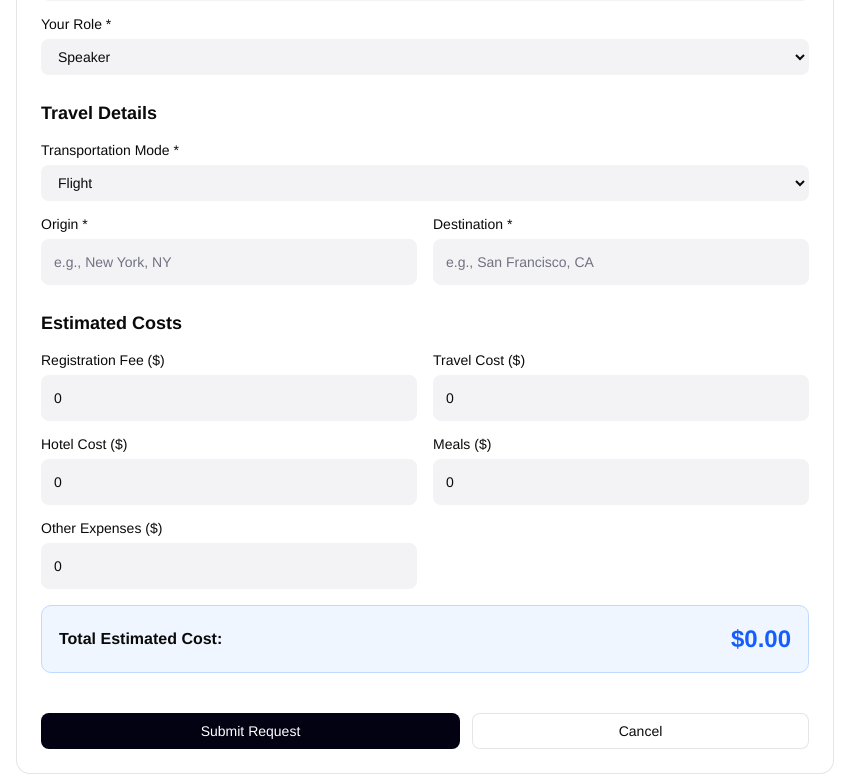
Test: SubmitRequestPage › shows validation errors when required fields are missing
This screenshot has width=851, height=774.
(page scrolled)
Click the button "Submit Request" at point(250, 731), box [41, 713, 460, 749]
(page scrolled)
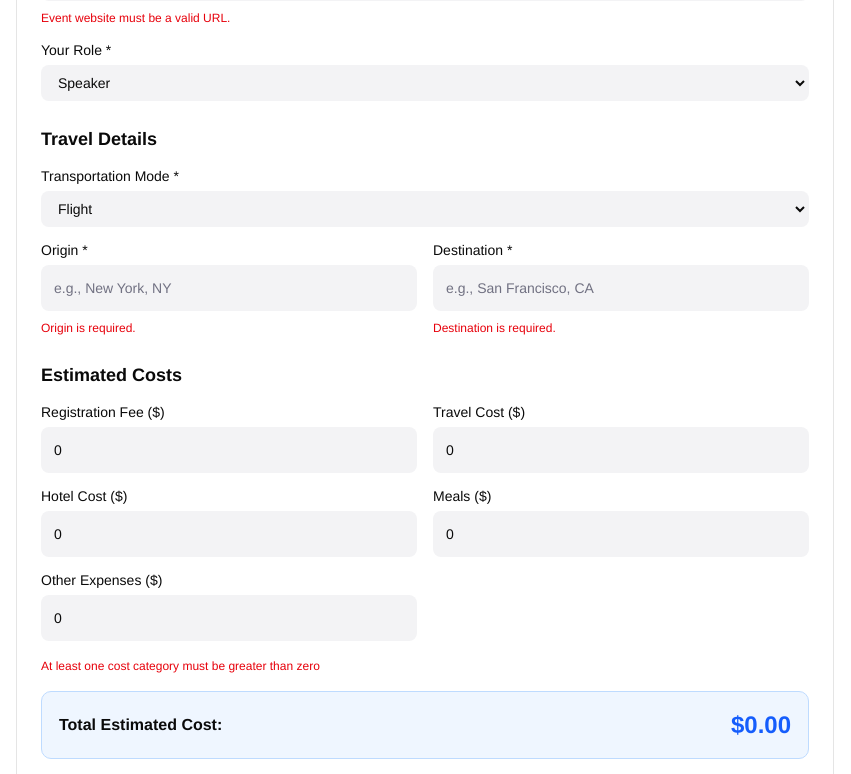
Result: the text "Event website must be a valid URL." is shown at [41, 11, 230, 25]
Result: the text "At least one cost category must be greater than zero" is shown at [41, 659, 320, 673]
